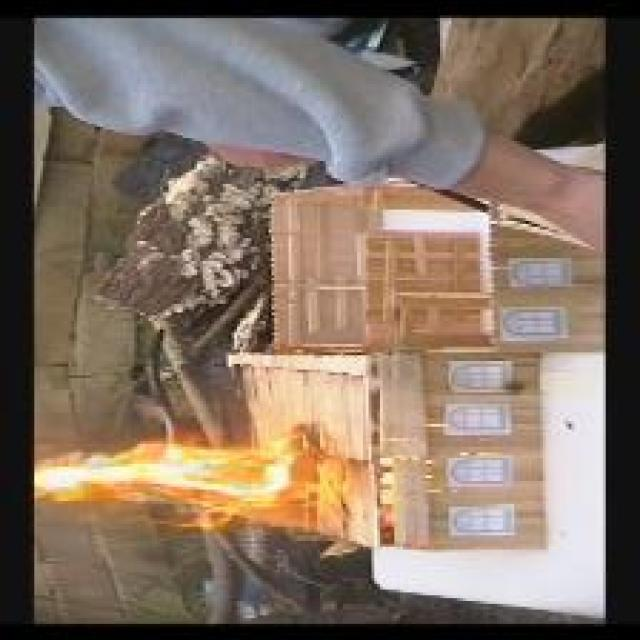Fire: (37, 428, 343, 534)
